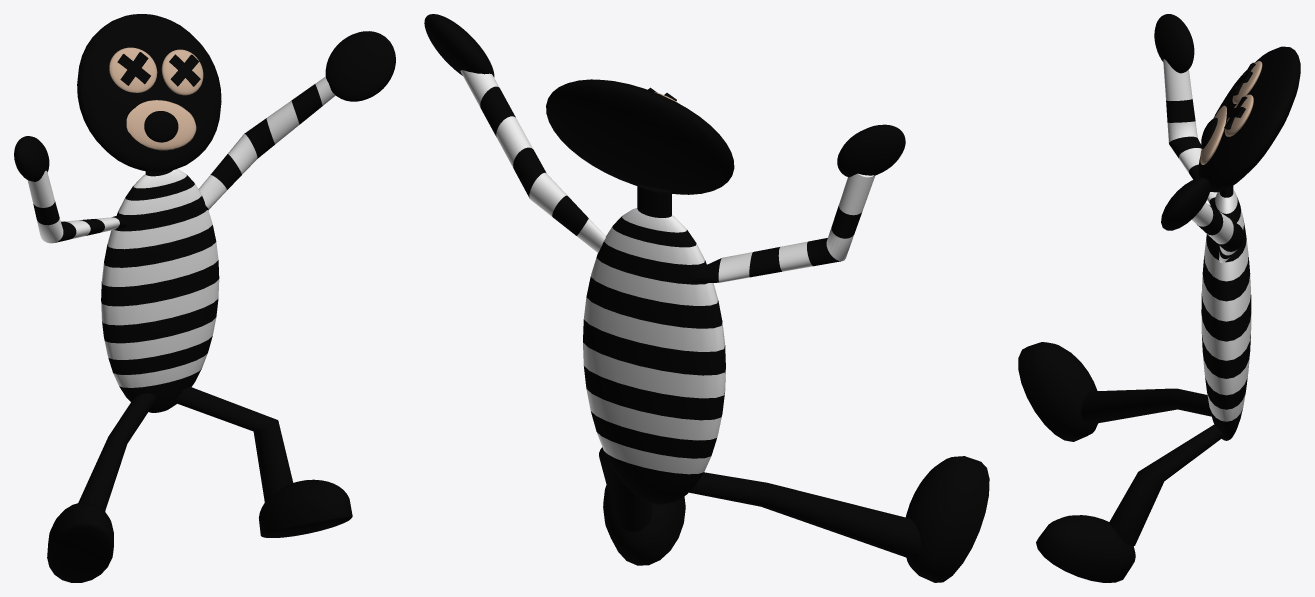
File: BurglarS2.fbx
3 views of the same model, side by side, from view 1: azimuth 30°, elevation 25°; view 2: azimuth 150°, elevation 25°; view 3: azimuth 270°, elevation 25° (orthographic). The views are drawn at different scales.
Parts seen in each view (by area): view 1: pSphere1, pSphere2, pasted__pasted__pasted__pasted__pSphere1, pasted__pasted__pasted__pCylinder1, pasted__pasted__pasted__pSphere1, pSphere5, pasted__pCylinder1, pCylinder1, pasted__pasted__pCylinder1, pSphere4, pasted__pSphere5, pSphere3 (+2 smaller); view 2: pSphere1, pSphere2, pasted__pasted__pasted__pasted__pSphere1, pCylinder1, pasted__pasted__pasted__pCylinder1, pasted__pasted__pCylinder1, pasted__pasted__pasted__pSphere1, pasted__pSphere5, pSphere5, pasted__pCylinder1, pCylinder2; view 3: pSphere1, pSphere2, pasted__pasted__pasted__pasted__pSphere1, pasted__pasted__pasted__pSphere1, pasted__pCylinder1, pCylinder1, pasted__pasted__pCylinder1, pasted__pSphere5, pSphere5, pasted__pasted__pasted__pCylinder1, pSphere4, pasted__pSphere3 (+1 smaller).
Boxes of the visible parts, x1,y1,x2,y2 form: pSphere1: (101, 169, 219, 412); pSphere2: (77, 14, 221, 171); pasted__pasted__pasted__pasted__pSphere1: (47, 502, 113, 582); pasted__pasted__pasted__pCylinder1: (199, 76, 335, 210); pasted__pasted__pasted__pSphere1: (259, 479, 352, 537); pSphere5: (325, 31, 395, 101); pasted__pCylinder1: (174, 386, 293, 502); pCylinder1: (78, 393, 155, 511); pasted__pasted__pCylinder1: (27, 170, 127, 243); pSphere4: (126, 100, 196, 150); pasted__pSphere5: (14, 136, 49, 181); pSphere3: (109, 47, 157, 92); pSphere1: (583, 208, 725, 504); pSphere2: (546, 79, 734, 194); pasted__pasted__pasted__pasted__pSphere1: (905, 456, 989, 582); pCylinder1: (689, 472, 921, 558); pasted__pasted__pasted__pCylinder1: (460, 70, 605, 252); pasted__pasted__pCylinder1: (692, 173, 874, 283); pasted__pasted__pasted__pSphere1: (603, 485, 685, 565); pasted__pSphere5: (837, 124, 905, 177); pSphere5: (424, 14, 494, 77); pasted__pCylinder1: (599, 447, 652, 531); pCylinder2: (637, 184, 671, 217); pSphere1: (1201, 189, 1251, 440); pSphere2: (1198, 46, 1300, 192); pasted__pasted__pasted__pasted__pSphere1: (1018, 342, 1097, 441); pasted__pasted__pasted__pSphere1: (1036, 515, 1135, 582); pasted__pCylinder1: (1109, 424, 1222, 545); pCylinder1: (1081, 388, 1211, 424); pasted__pasted__pCylinder1: (1163, 59, 1217, 206); pasted__pSphere5: (1154, 14, 1194, 73); pSphere5: (1161, 178, 1210, 230); pasted__pasted__pasted__pCylinder1: (1191, 202, 1243, 263); pSphere4: (1200, 105, 1226, 164); pasted__pSphere3: (1224, 94, 1253, 136).
Size of the model in its own units: 11.98 by 13.55 by 7.12.
